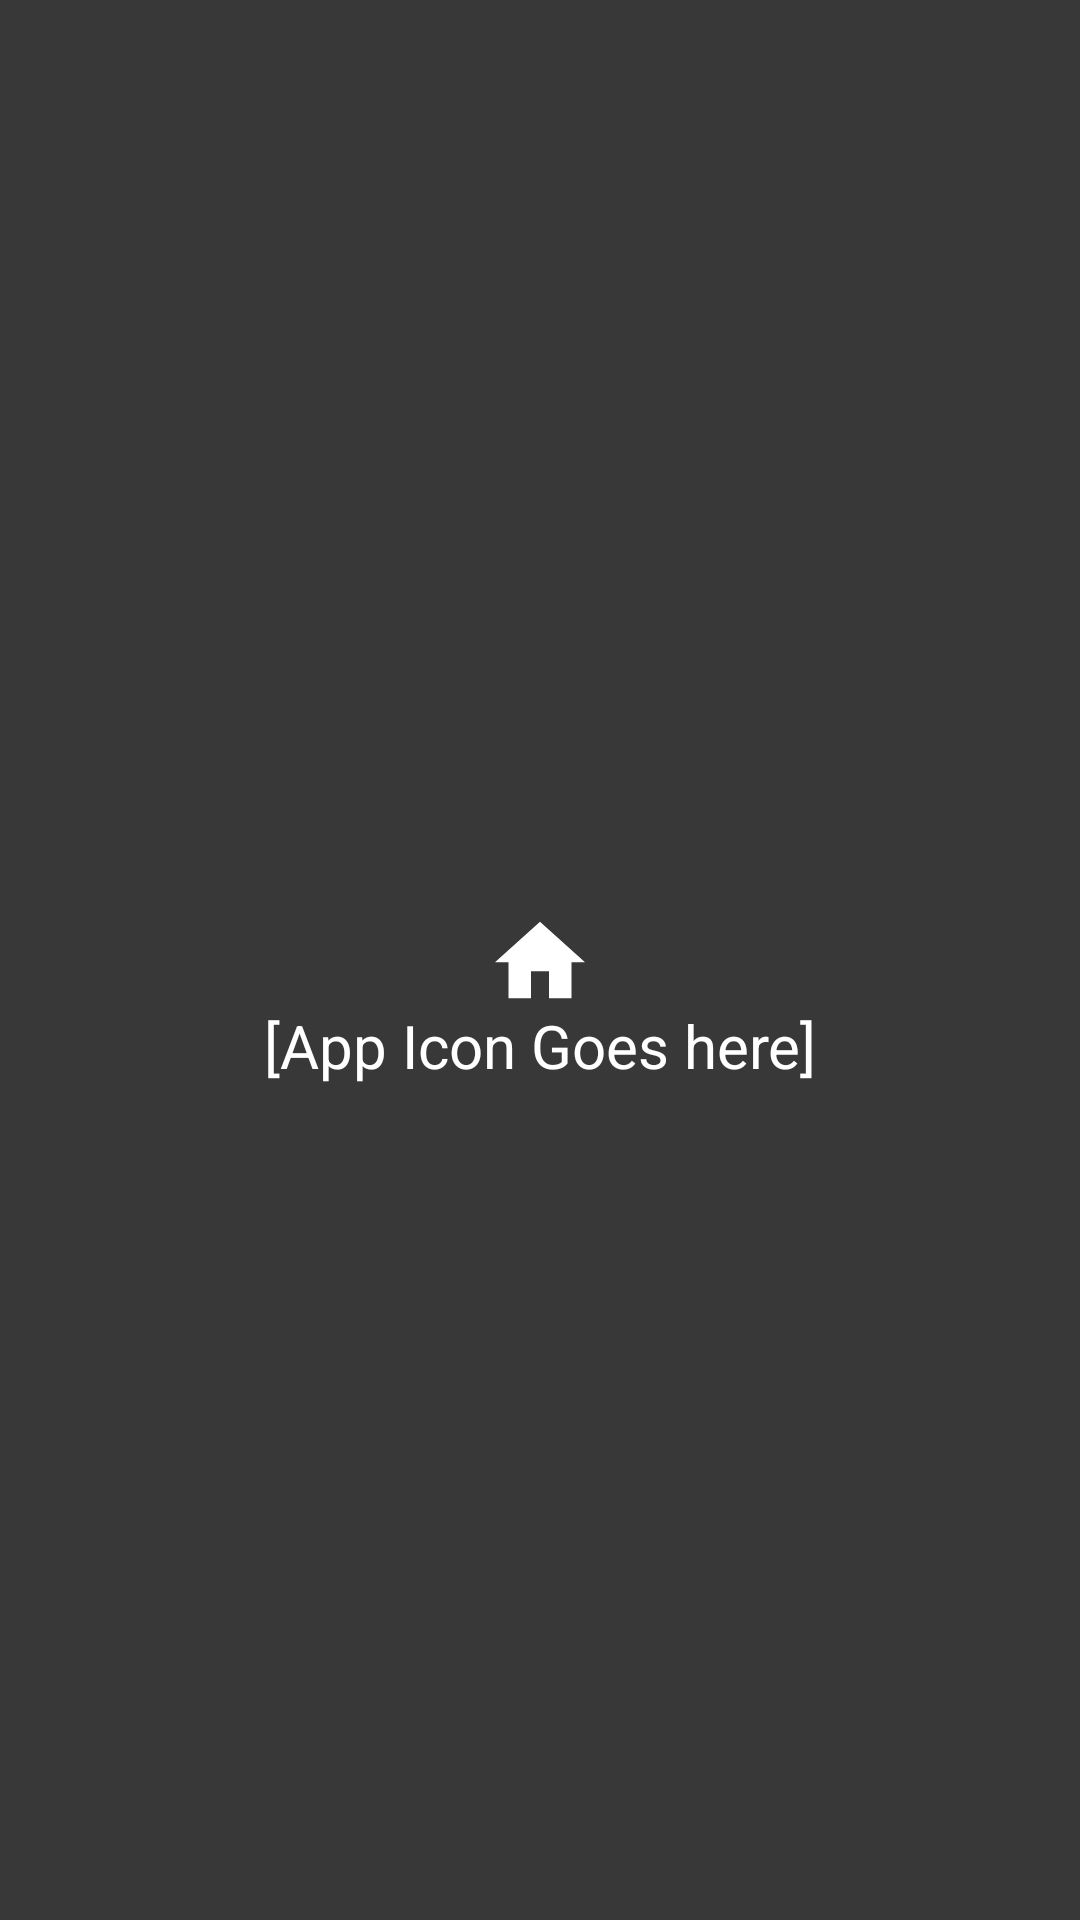

Point at icon controls on the screen. Image size 1080w x 1920h, points as [x,y].
home: [540,960]
